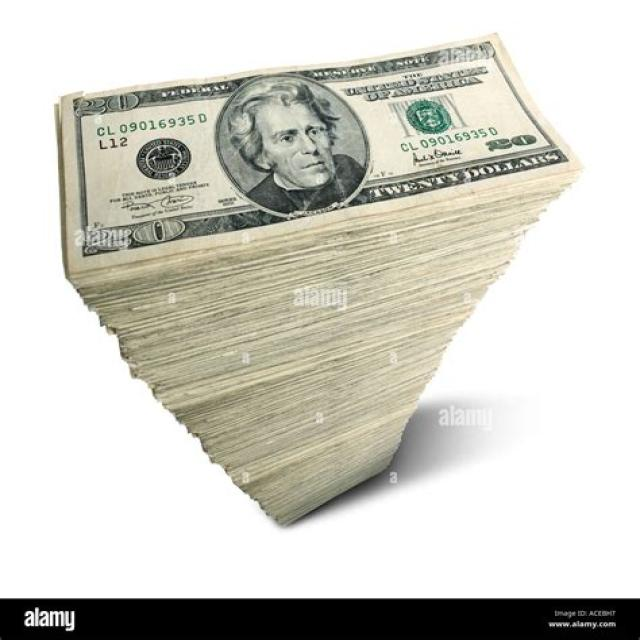Twenty: (57, 30, 581, 270)
